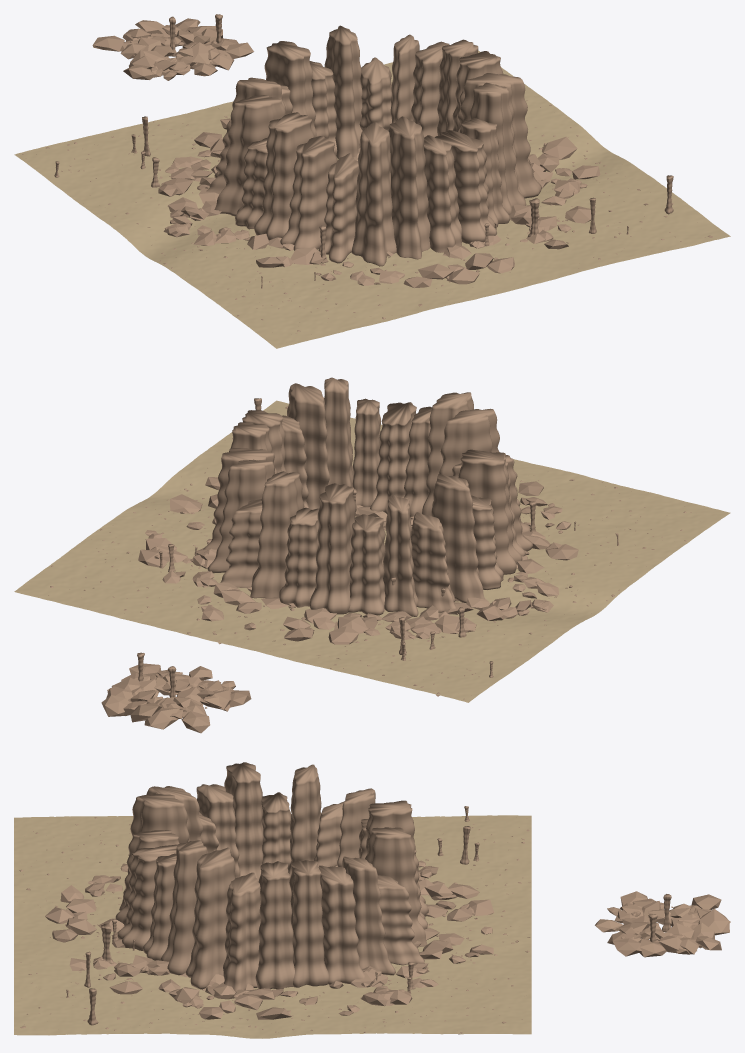
The model's file is terrain 1.fbx.
The picture shows the model from 3 angles, top to bottom: view 1: azimuth 30°, elevation 25°; view 2: azimuth 150°, elevation 25°; view 3: azimuth 270°, elevation 25°; orthographic projection.
Parts seen in each view (by area): view 1: Gobi_Ground, Ring_17, Ring_16, Ring_13, Ring_14, Ring_05, Ring_11, Ring_19, Ring_18, Ring_15, Ring_21, Ring_22 (+11 smaller); view 2: Gobi_Ground, Ring_07, Ring_11, Ring_05, Ring_13, Ring_08, Ring_09, Ring_10, Ring_22, Ring_19, Ring_06, Ring_21 (+12 smaller); view 3: Gobi_Ground, Ring_22, Ring_00, Ring_01, Ring_02, Ring_23, Ring_21, Ring_13, Ring_03, Ring_05, Ring_19, Ring_11 (+12 smaller).
Part boxes in pixels (x1=…): Gobi_Ground: x1=14, y1=50, x2=730, y2=348; Ring_17: x1=388, y1=116, x2=430, y2=259; Ring_16: x1=351, y1=122, x2=396, y2=266; Ring_13: x1=254, y1=112, x2=314, y2=240; Ring_14: x1=280, y1=136, x2=337, y2=250; Ring_05: x1=324, y1=25, x2=362, y2=158; Ring_11: x1=214, y1=95, x2=285, y2=216; Ring_19: x1=435, y1=130, x2=496, y2=243; Ring_18: x1=424, y1=135, x2=462, y2=252; Ring_15: x1=318, y1=153, x2=358, y2=263; Ring_21: x1=469, y1=82, x2=526, y2=214; Ring_22: x1=460, y1=73, x2=541, y2=198; Gobi_Ground: x1=14, y1=400, x2=730, y2=702; Ring_07: x1=309, y1=483, x2=356, y2=614; Ring_11: x1=431, y1=474, x2=484, y2=602; Ring_05: x1=250, y1=471, x2=304, y2=598; Ring_13: x1=458, y1=449, x2=522, y2=574; Ring_08: x1=348, y1=514, x2=385, y2=615; Ring_09: x1=383, y1=494, x2=418, y2=616; Ring_10: x1=411, y1=512, x2=457, y2=614; Ring_22: x1=287, y1=383, x2=329, y2=509; Ring_19: x1=370, y1=402, x2=416, y2=514; Ring_06: x1=279, y1=507, x2=319, y2=607; Ring_21: x1=324, y1=377, x2=356, y2=510; Gobi_Ground: x1=14, y1=815, x2=531, y2=1038; Ring_22: x1=185, y1=847, x2=235, y2=989; Ring_00: x1=255, y1=861, x2=294, y2=989; Ring_01: x1=289, y1=860, x2=328, y2=987; Ring_02: x1=318, y1=865, x2=365, y2=984; Ring_23: x1=223, y1=872, x2=260, y2=991; Ring_21: x1=160, y1=840, x2=207, y2=975; Ring_13: x1=224, y1=762, x2=263, y2=881; Ring_03: x1=342, y1=856, x2=395, y2=975; Ring_05: x1=366, y1=827, x2=427, y2=947; Ring_19: x1=117, y1=844, x2=177, y2=950; Ring_11: x1=288, y1=764, x2=321, y2=878.
Size of the model in its own units: 20000 by 5396 by 27699.
